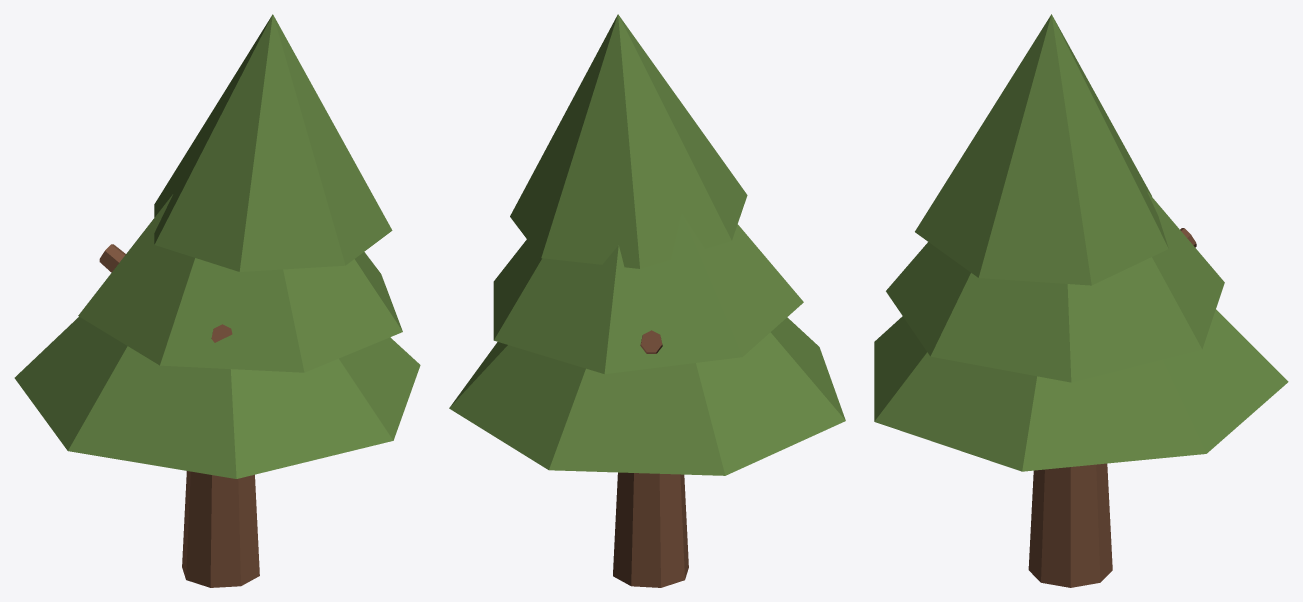
The model's file is tree_small_b.glb.
The picture shows the model from 3 angles, left to right: view 1: azimuth 30°, elevation 25°; view 2: azimuth 150°, elevation 25°; view 3: azimuth 270°, elevation 25°; orthographic projection. The views are drawn at different scales.
Parts seen in each view (by area): view 1: tree_small_b; view 2: tree_small_b; view 3: tree_small_b.
Boxes of the visible parts, x1=… form: tree_small_b: x1=14, y1=14, x2=420, y2=587; tree_small_b: x1=449, y1=14, x2=845, y2=587; tree_small_b: x1=874, y1=14, x2=1288, y2=587.
Size of the model in its own units: 2.4 by 3.6 by 2.34.
